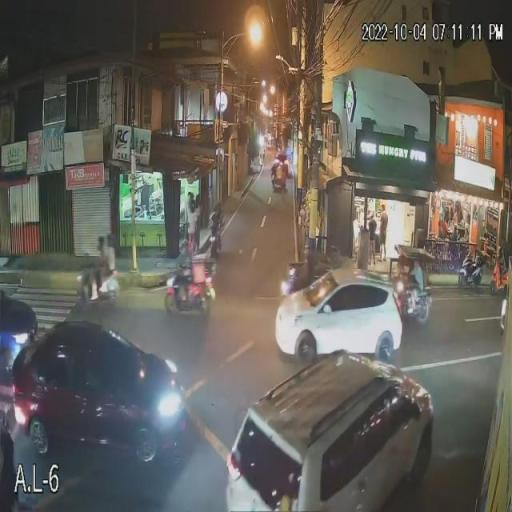helmet: (107, 230, 120, 248), (95, 238, 105, 252)
motorcycle: (75, 263, 122, 304), (166, 274, 216, 312)
rider: (180, 242, 195, 290), (104, 230, 116, 276), (95, 234, 105, 282)
